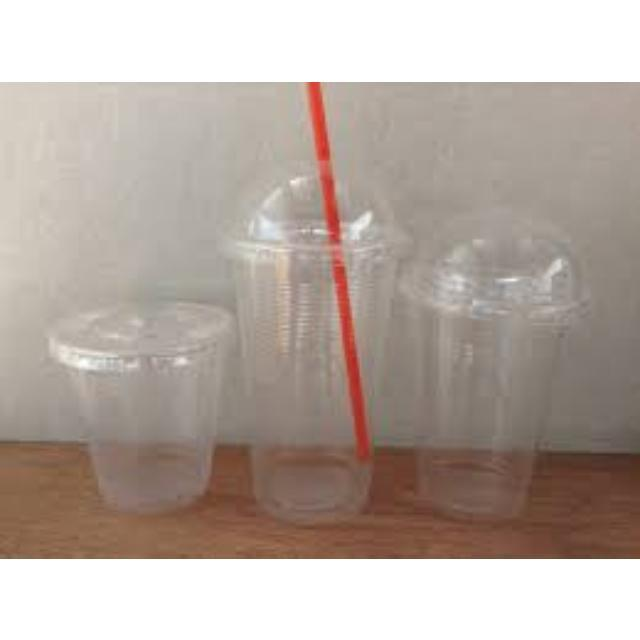Plastico descartable: (232, 84, 396, 521), (49, 302, 232, 513)
